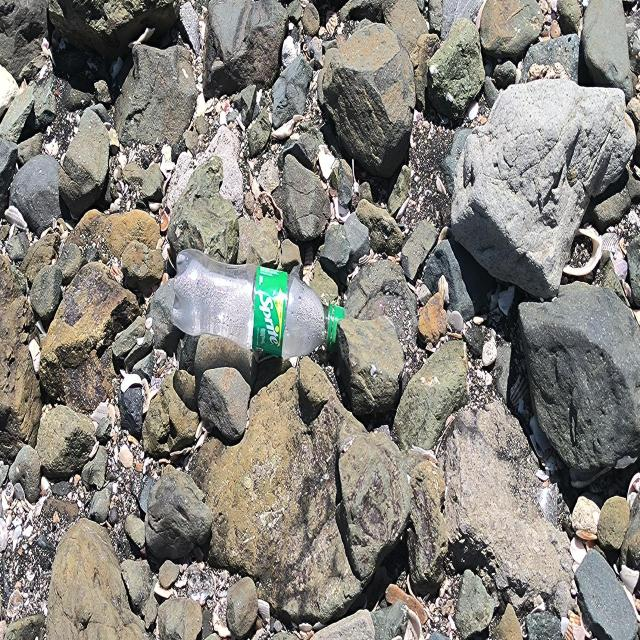plastic_waste: (173, 249, 346, 359)
